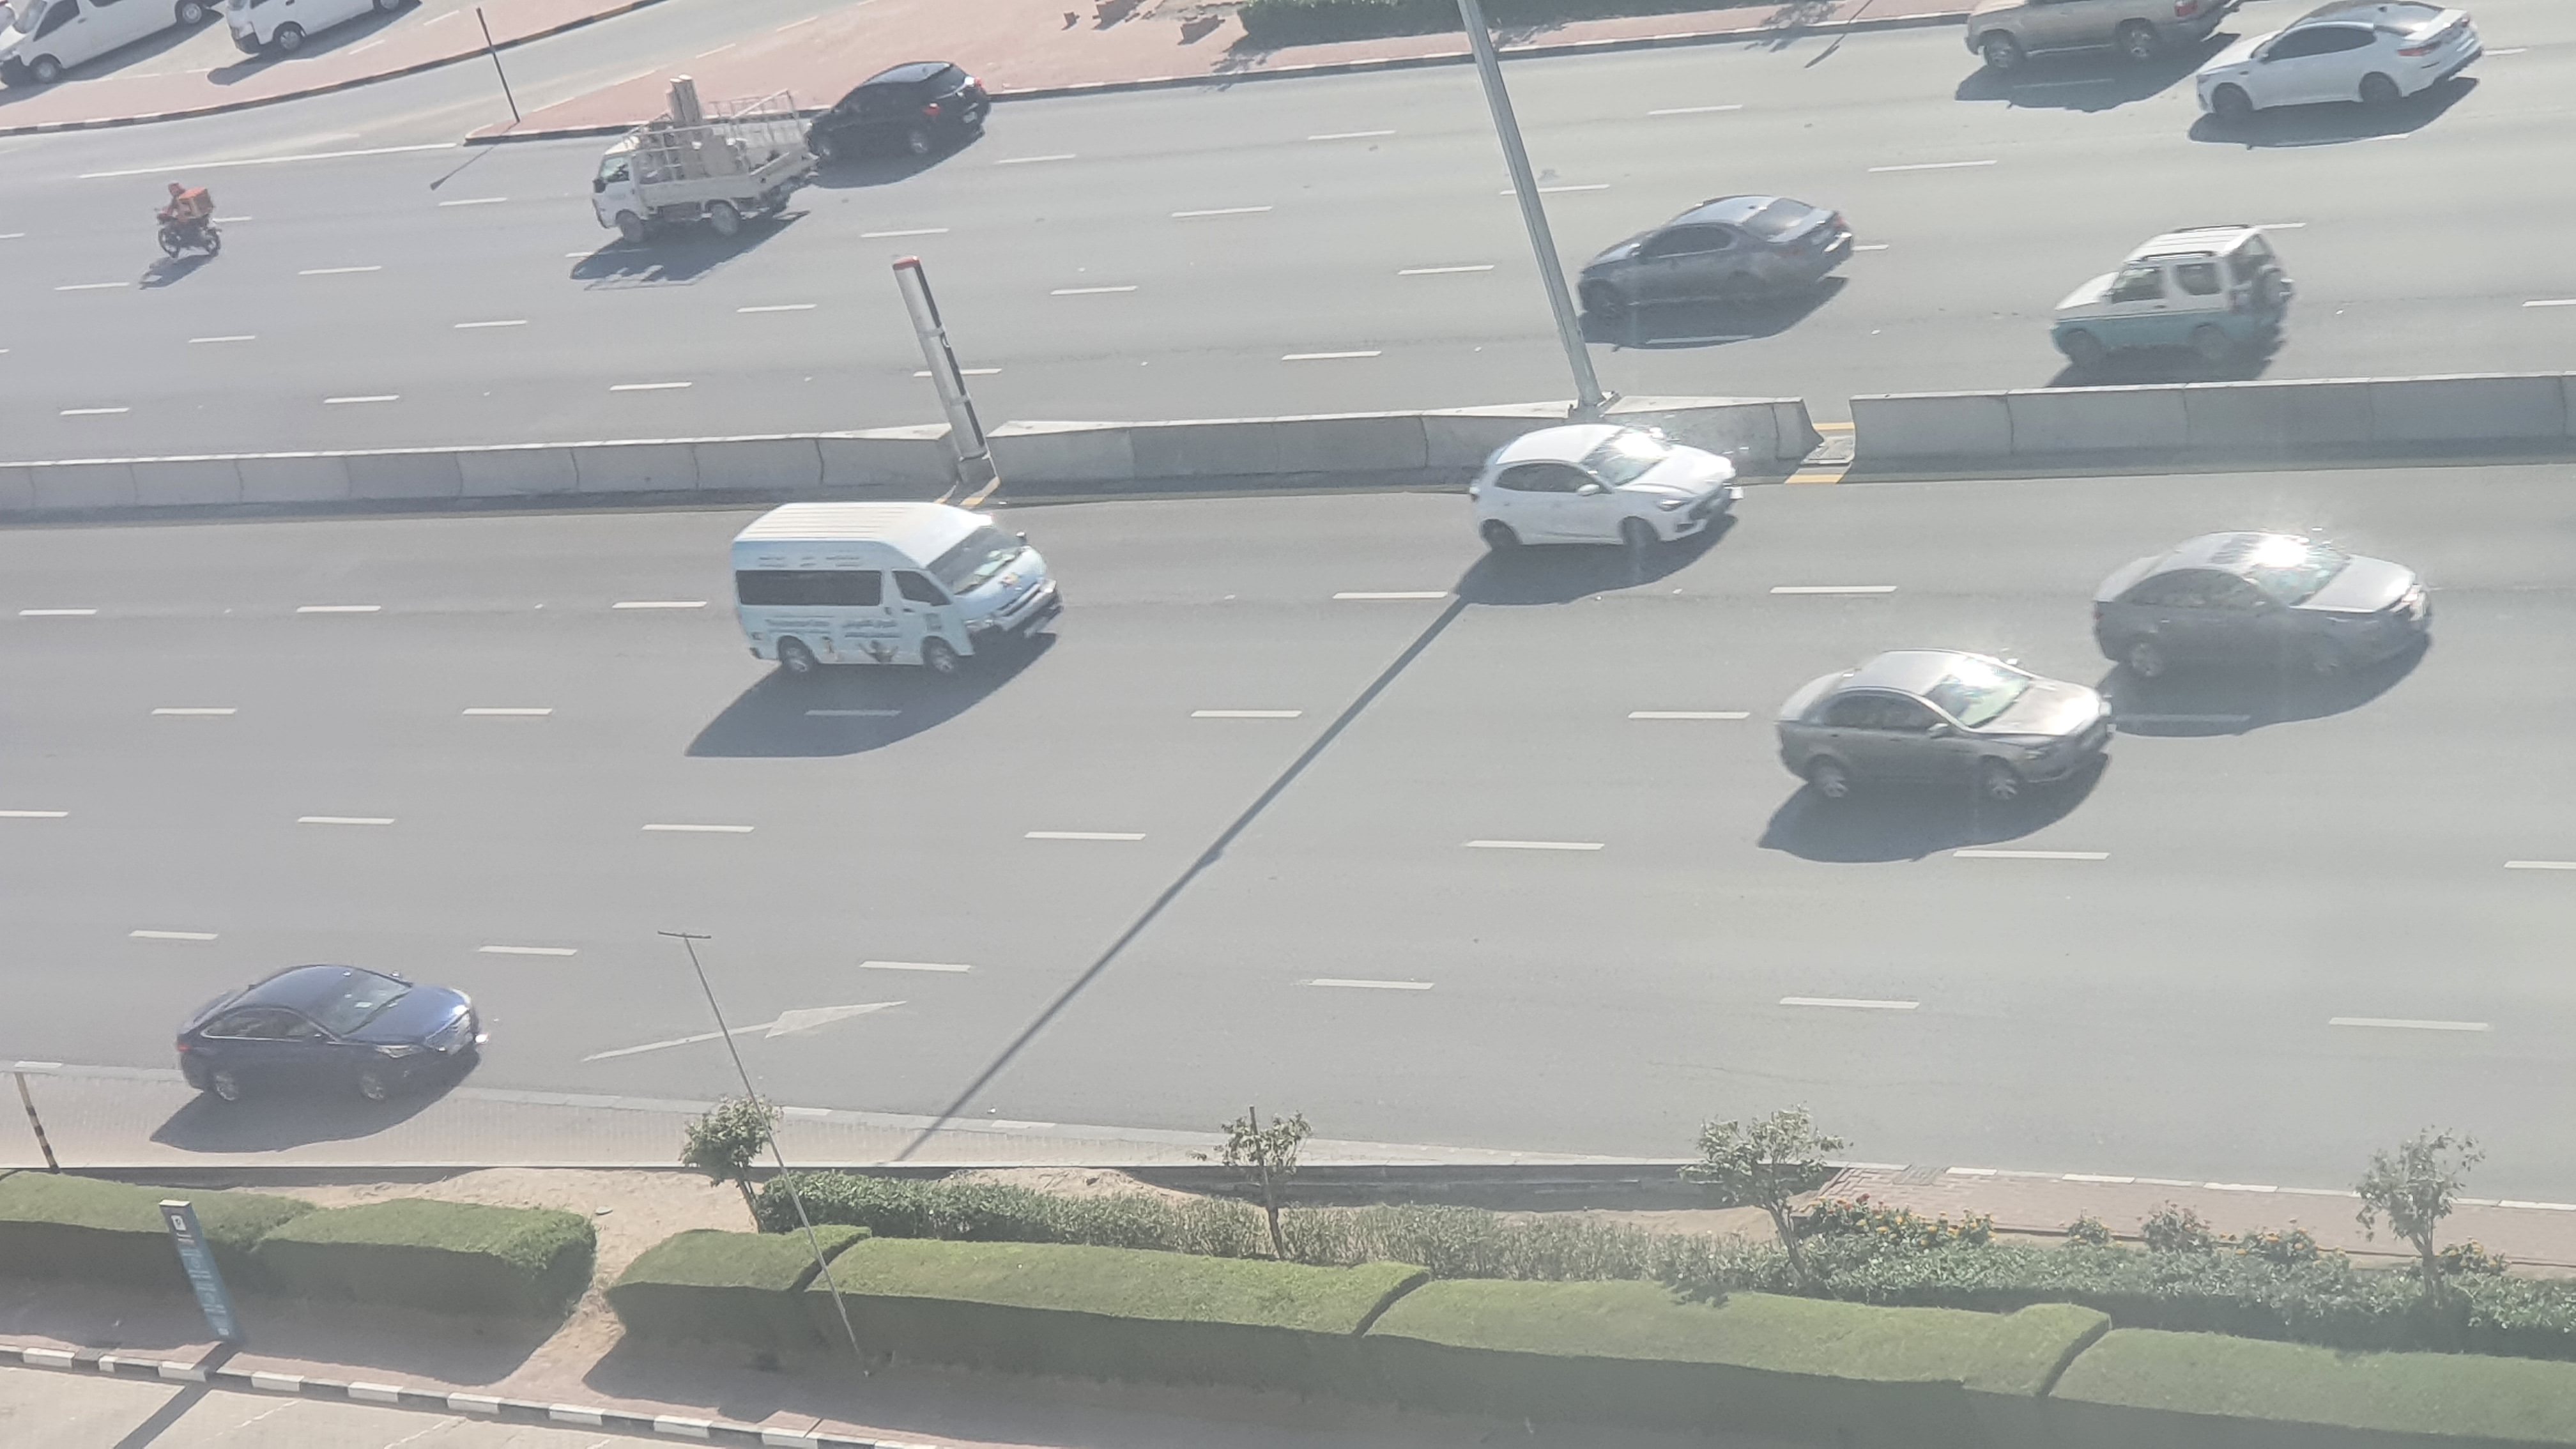NotSunroof: (1778, 656, 2112, 814), (166, 968, 487, 1106), (1456, 416, 1741, 563)
Sunroof: (2084, 533, 2442, 679)
